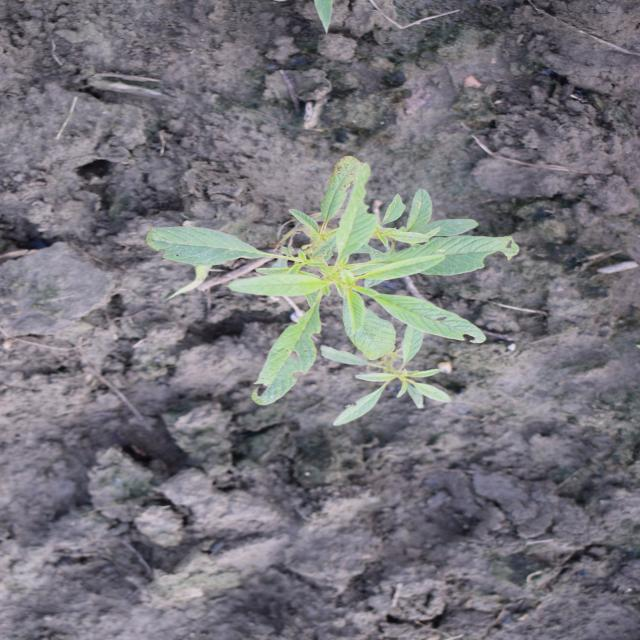Waterhemp: (143, 155, 522, 428)
